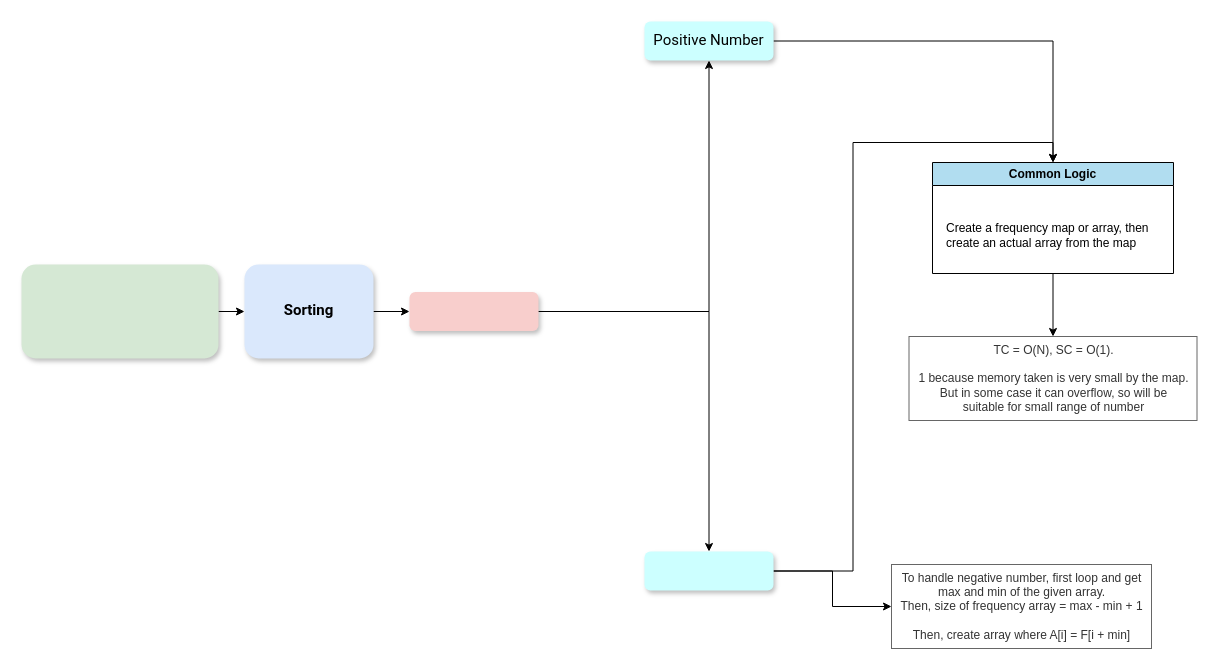
The diagram is 1214 pixels wide and 666 high, and some of its shapes have lost their labels. Here are the shapes that lost their labels. From the top down, the centre of each, then its label:
At point 120,312: "DATA STRUCTURE AND ALGORITHM".
At point 474,313: "Count Sort".
At point 709,572: "Negative number".
